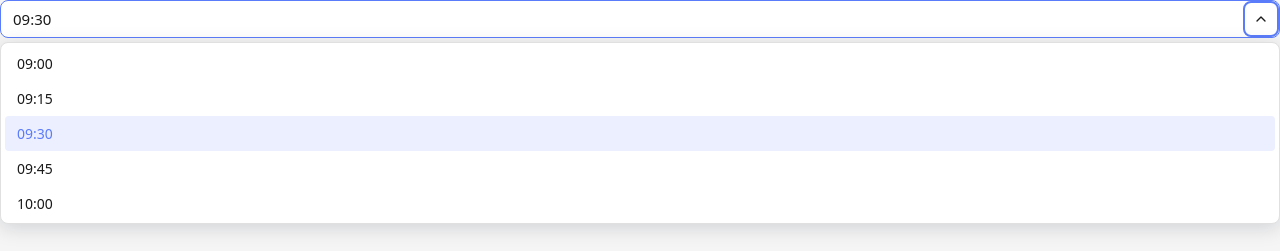
Test: app startup › closes time choices when the focused chevron is clicked
The image size is (1280, 251).
(page scrolled)
Click the button named "Toggle time options": (1261, 19) left=1247, top=5, right=1275, bottom=33
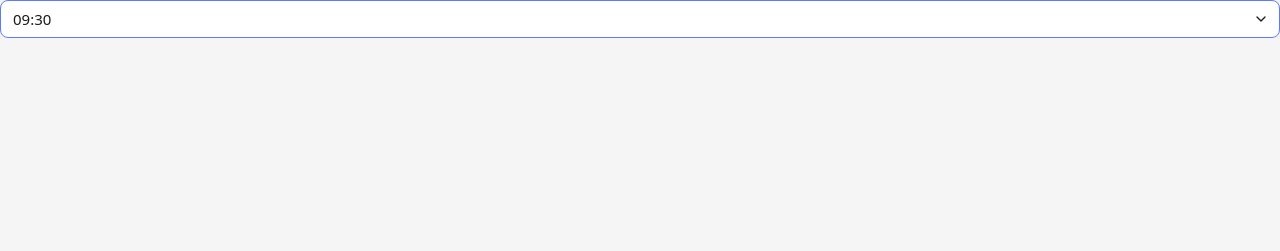
Check: the element with class "time-select__dropdown" is gone
